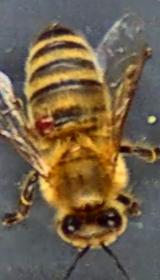varroa_mite: (36, 110, 66, 128)
